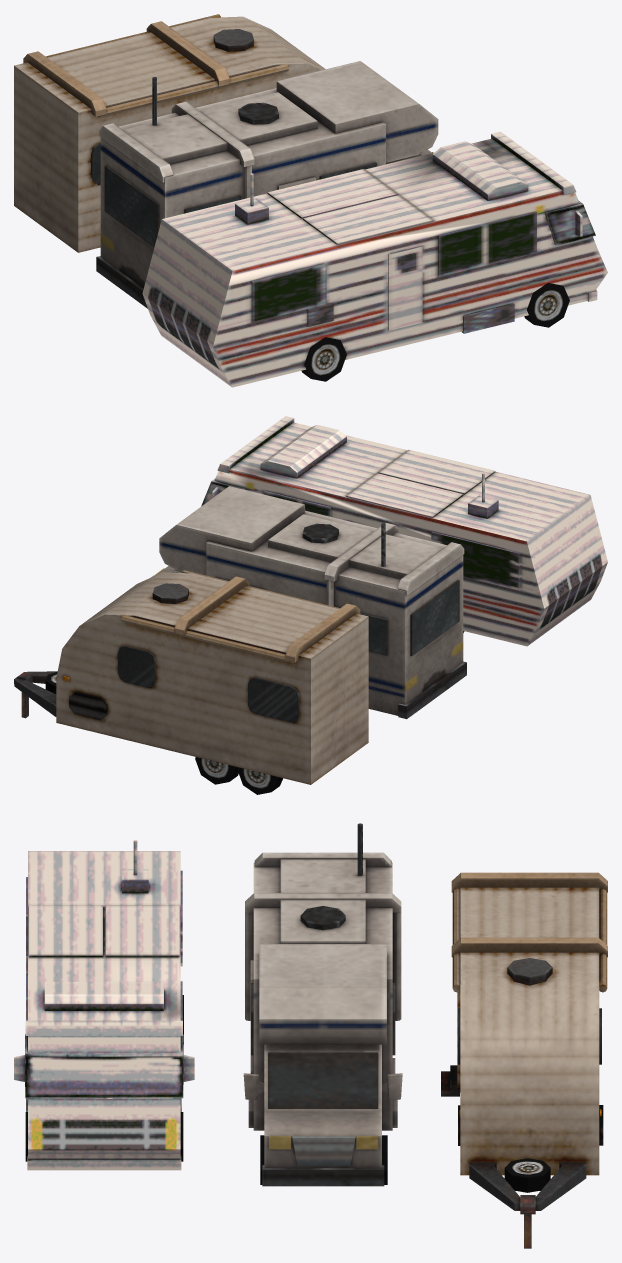
The model's file is RVs_Fixed.fbx.
The picture shows the model from 3 angles, top to bottom: view 1: azimuth 30°, elevation 25°; view 2: azimuth 150°, elevation 25°; view 3: azimuth 270°, elevation 25°; orthographic projection. The views are drawn at different scales.
Visible parts, largest first — view 1: RV_1, RV_2, RV_3; view 2: RV_3, RV_1, RV_2; view 3: RV_1, RV_2, RV_3.
Boxes of the visible parts, x1=… form: RV_1: x1=142, y1=131, x2=607, y2=387; RV_2: x1=96, y1=61, x2=438, y2=308; RV_3: x1=14, y1=14, x2=325, y2=252; RV_3: x1=14, y1=570, x2=368, y2=794; RV_1: x1=201, y1=416, x2=607, y2=646; RV_2: x1=151, y1=486, x2=466, y2=719; RV_1: x1=14, y1=840, x2=194, y2=1170; RV_2: x1=243, y1=823, x2=402, y2=1186; RV_3: x1=441, y1=872, x2=607, y2=1248.
Bounding box in the file's own units: 763 × 404 × 856.
